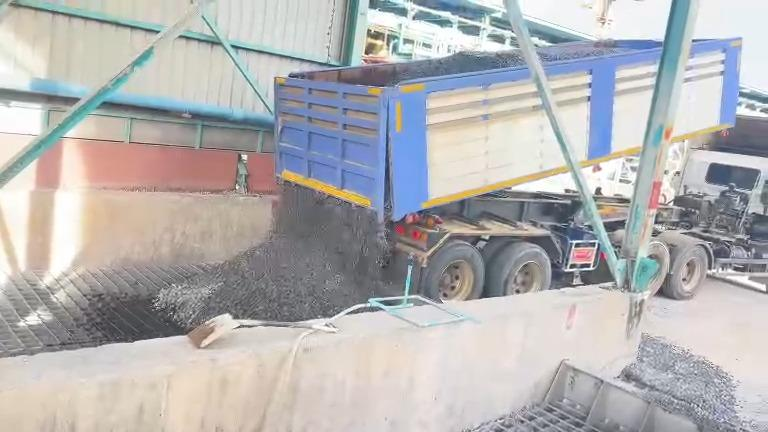gravel: (154, 184, 401, 328), (621, 335, 754, 430), (379, 49, 525, 85), (538, 43, 629, 63)
